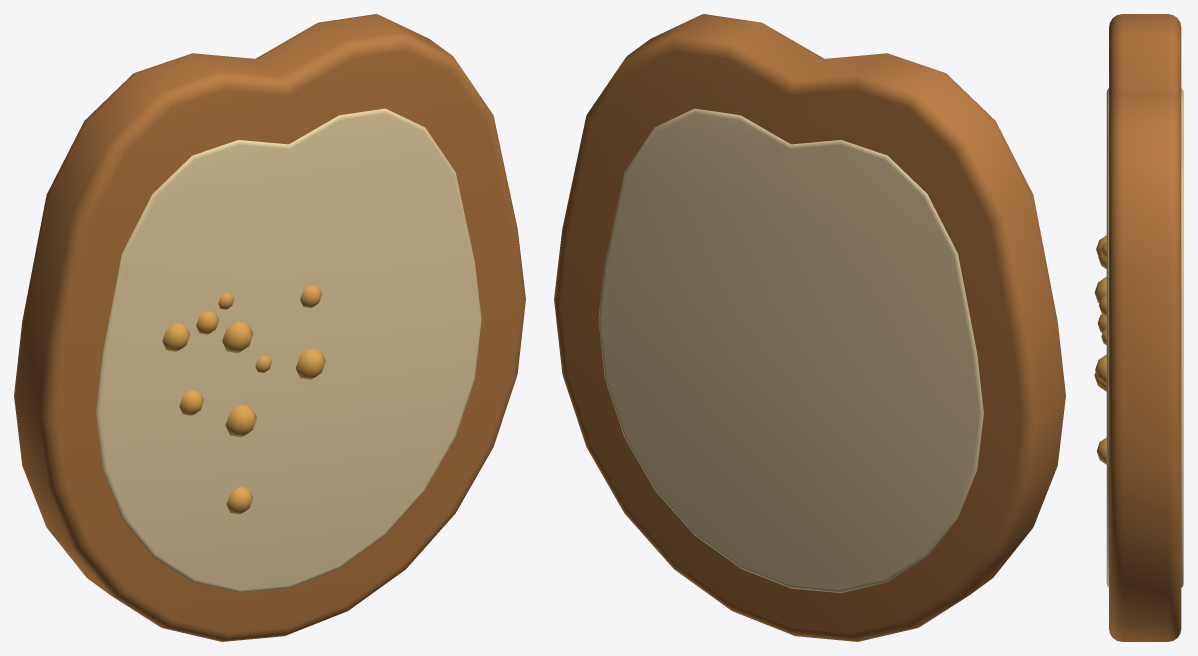
File: toast.glb
3 renders of one model, left to right at view 1: azimuth 30°, elevation 25°; view 2: azimuth 150°, elevation 25°; view 3: azimuth 270°, elevation 25°, orthographic. The views are drawn at different scales.
Visible parts, largest first — view 1: SliceFace, Slice, Crumb7, Crumb5; view 2: SliceFace, Slice; view 3: Slice, SliceFace, Crumb8, Crumb5, Crumb6.
Part boxes in pixels (x1=…): SliceFace: x1=96, y1=108, x2=481, y2=592; Slice: x1=14, y1=14, x2=525, y2=641; Crumb7: x1=225, y1=405, x2=256, y2=437; Crumb5: x1=222, y1=321, x2=252, y2=353; SliceFace: x1=598, y1=108, x2=983, y2=592; Slice: x1=554, y1=14, x2=1065, y2=641; Slice: x1=1109, y1=14, x2=1181, y2=641; SliceFace: x1=1106, y1=88, x2=1183, y2=587; Crumb8: x1=1095, y1=354, x2=1106, y2=384; Crumb5: x1=1094, y1=277, x2=1106, y2=303; Crumb6: x1=1096, y1=437, x2=1106, y2=464.
Size of the model in its own units: 0.2 by 0.2283 by 0.0332.
